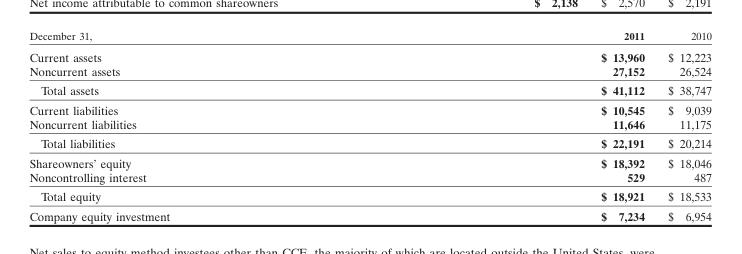table: (28, 28, 710, 222)
table column: (28, 28, 384, 222), (384, 28, 655, 222), (655, 28, 710, 222)
table column header: (28, 28, 710, 45)
table row: (28, 80, 710, 99), (28, 133, 710, 152), (28, 186, 710, 205), (28, 45, 710, 63), (28, 28, 710, 45), (28, 63, 710, 80), (28, 99, 710, 116), (28, 116, 710, 133), (28, 152, 710, 169), (28, 169, 710, 186), (28, 205, 710, 222)
